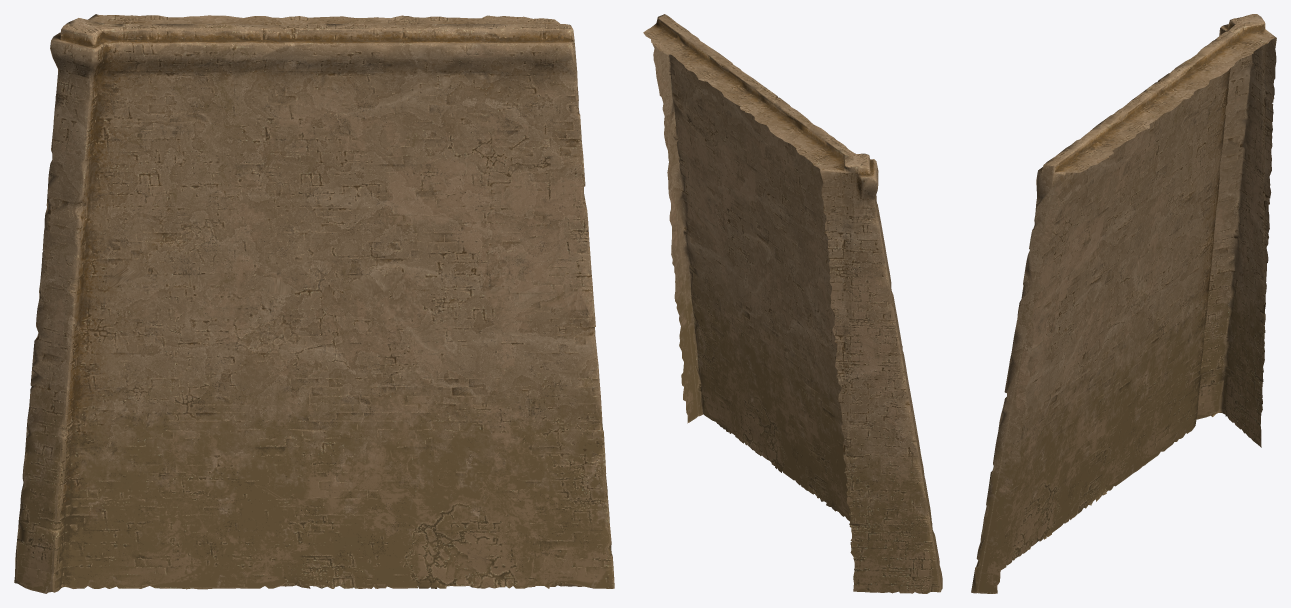
Rendered from Wall_Segment2.fbx.
3 views of the same model, side by side, from view 1: azimuth 30°, elevation 25°; view 2: azimuth 150°, elevation 25°; view 3: azimuth 270°, elevation 25° (orthographic). The views are drawn at different scales.
Visible parts, largest first — view 1: DesertTemple_Fortress_WallSegment_02; view 2: DesertTemple_Fortress_WallSegment_02; view 3: DesertTemple_Fortress_WallSegment_02.
Boxes of the visible parts, bbox=[...] form: DesertTemple_Fortress_WallSegment_02: bbox=[14, 14, 614, 593]; DesertTemple_Fortress_WallSegment_02: bbox=[643, 14, 942, 593]; DesertTemple_Fortress_WallSegment_02: bbox=[971, 14, 1276, 593].
Bounding box in the file's own units: 1107 × 1227 × 792.
